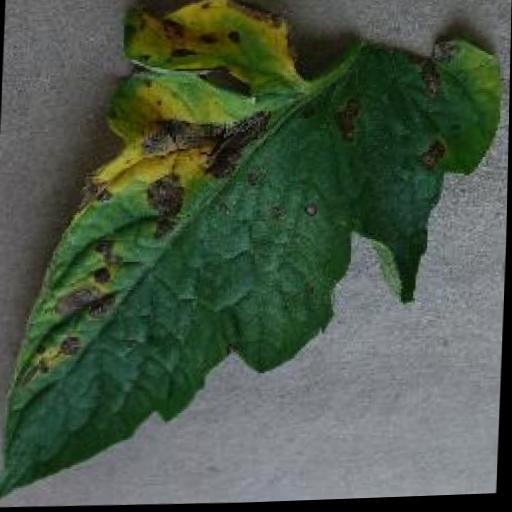Early Blight: (0, 0, 502, 508)
